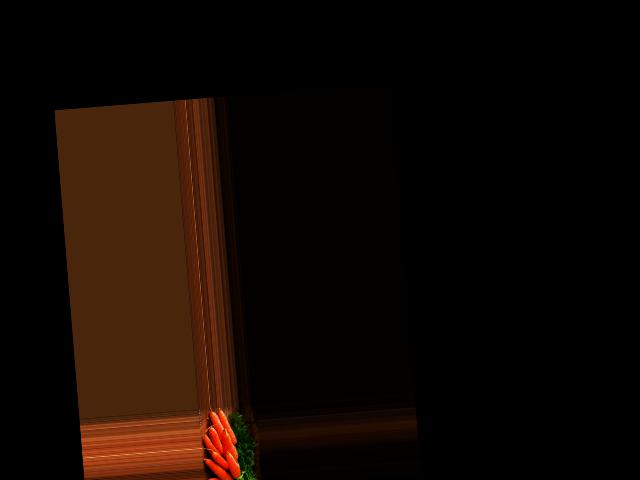carrot: (204, 456, 235, 480)
